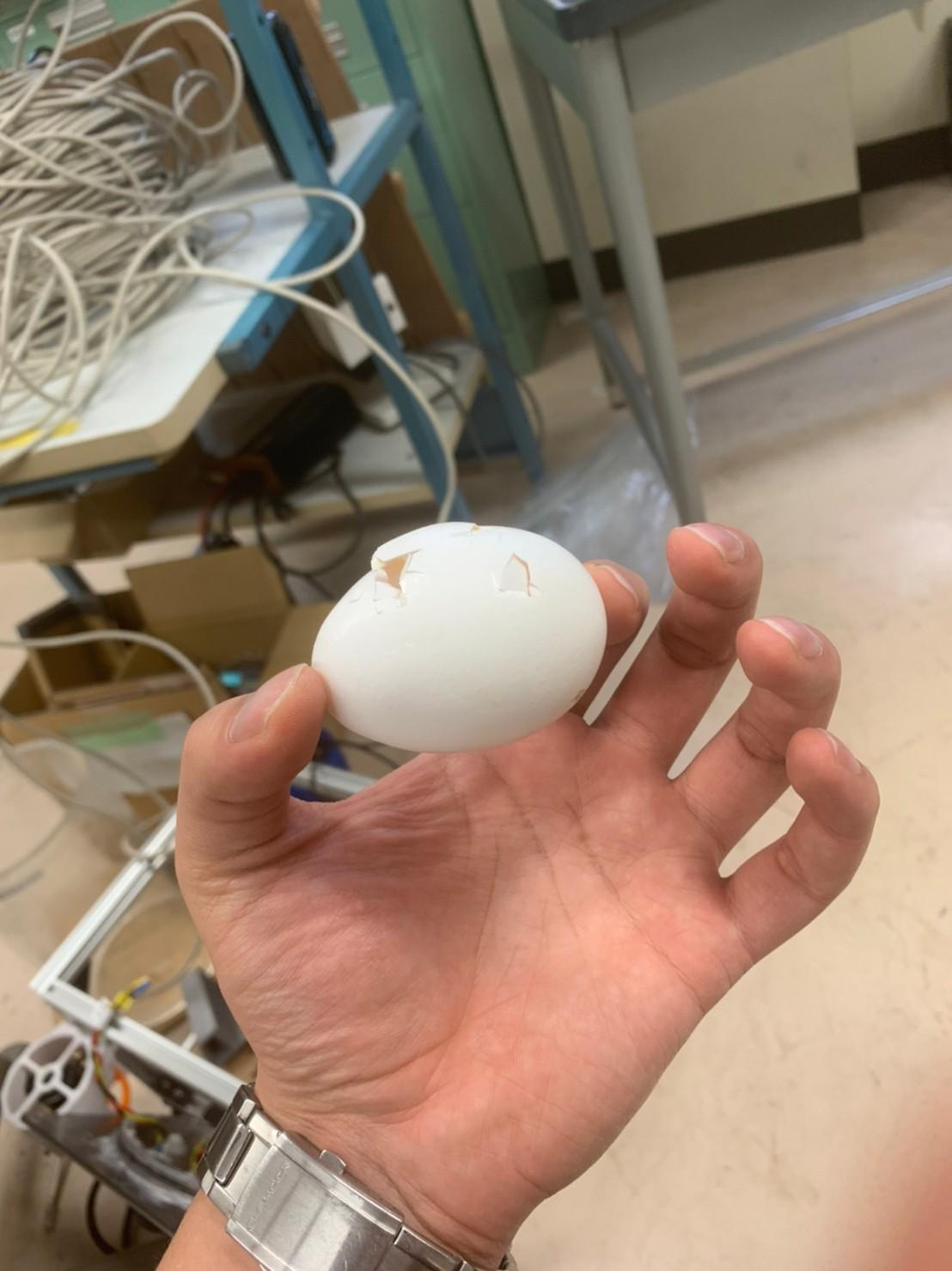egg: (312, 516, 610, 759)
